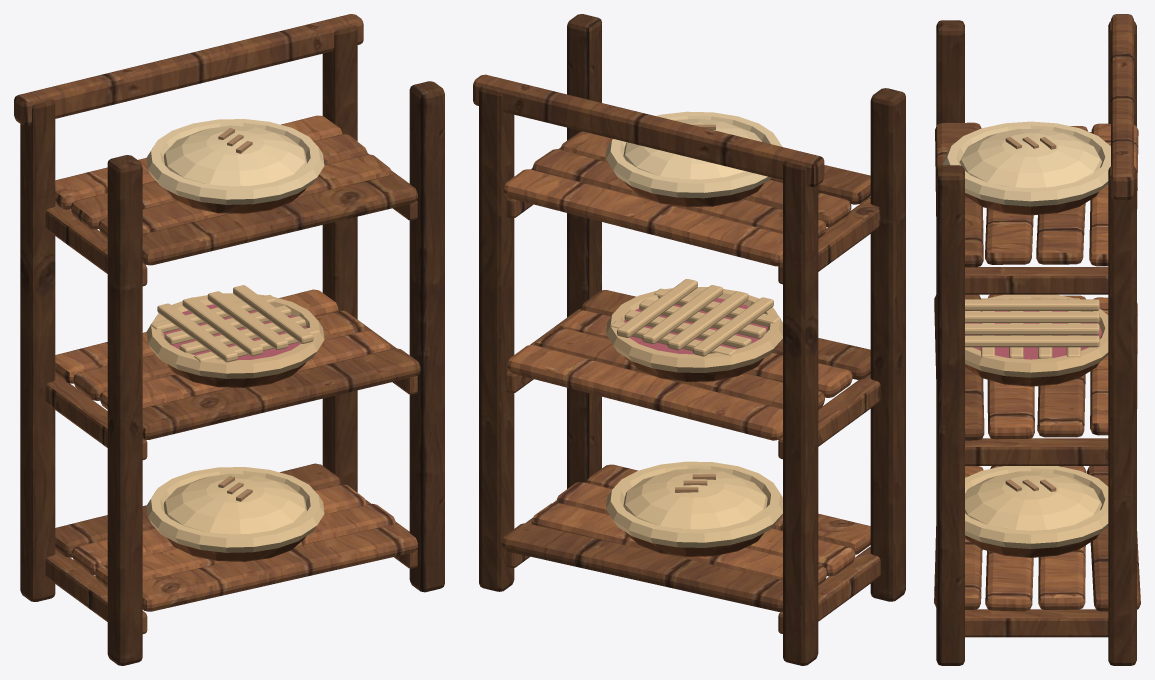
Rendered from pie_rack.glb.
3 renders of one model, left to right at view 1: azimuth 30°, elevation 25°; view 2: azimuth 150°, elevation 25°; view 3: azimuth 270°, elevation 25°, orthographic. The views are drawn at different scales.
Parts seen in each view (by area): view 1: model; view 2: model; view 3: model.
Boxes of the visible parts, left/top/right/bottom form: model: left=14, top=14, right=444, bottom=665; model: left=473, top=14, right=905, bottom=665; model: left=934, top=14, right=1140, bottom=665.
Bounding box in the file's own units: 0.68 × 0.955 × 0.3612.
10 materials, 5 textured.
